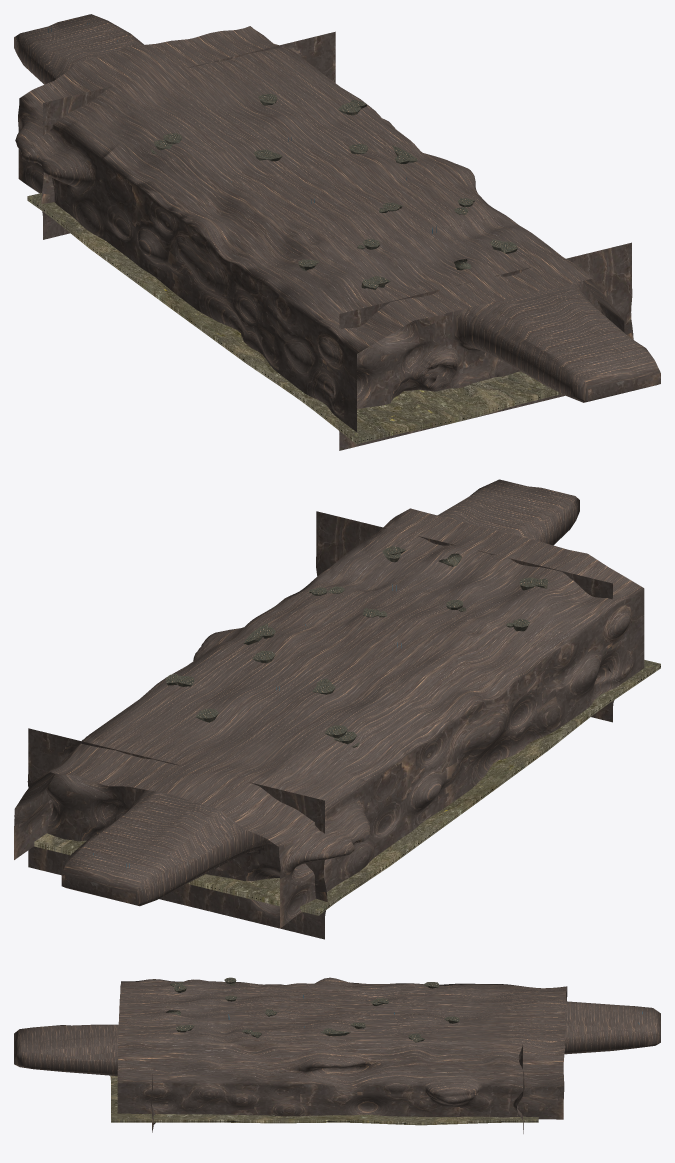
The model's file is moon.glb.
3 renders of one model, top to bottom at view 1: azimuth 30°, elevation 25°; view 2: azimuth 150°, elevation 25°; view 3: azimuth 270°, elevation 25°, orthographic. The views are drawn at different scales.
Visible parts, largest first — view 1: Plane.001, Plane.003, Cave Floor, Plane.002; view 2: Plane.001, Plane.002, Plane.003, Cave Floor; view 3: Plane.001, Plane.003, Plane.002, Cave Floor.
Boxes of the visible parts, <box> form: Plane.001: <box>15,26,624,431</box>; Plane.003: <box>334,242,660,450</box>; Cave Floor: <box>27,193,561,444</box>; Plane.002: <box>14,14,335,239</box>; Plane.001: <box>14,508,644,928</box>; Plane.002: <box>27,728,327,939</box>; Plane.003: <box>316,479,614,722</box>; Cave Floor: <box>34,660,660,915</box>; Plane.001: <box>117,977,567,1119</box>; Plane.003: <box>14,1024,155,1132</box>; Plane.002: <box>513,1001,660,1133</box>; Cave Floor: <box>110,1075,538,1125</box>.
Bounding box in the file's own units: 1.78 × 0.7523 × 4.81.
11 materials, 5 textured.
